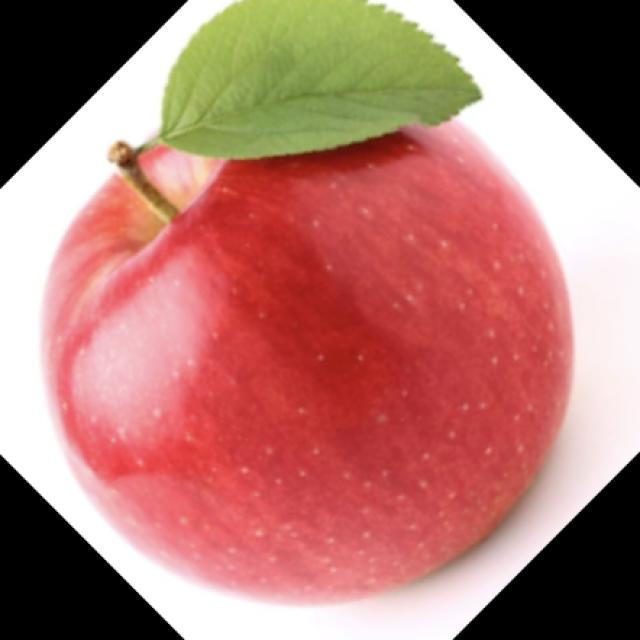Fresh Apple: (41, 83, 583, 610)
